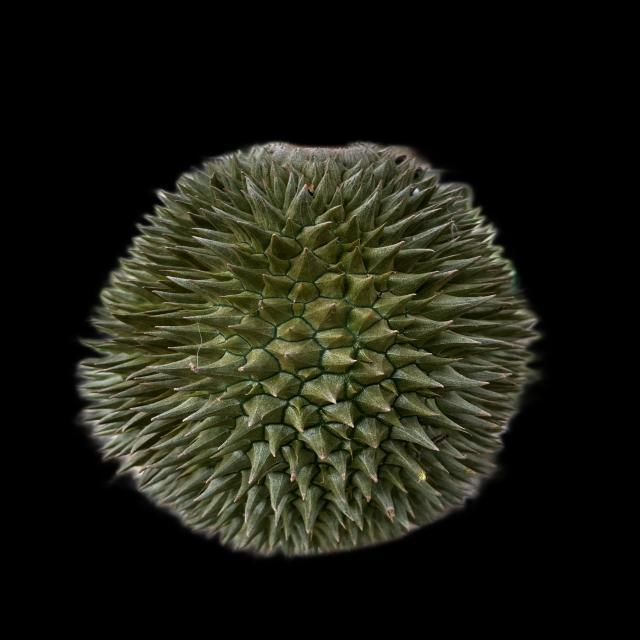immature: (66, 141, 542, 561)
